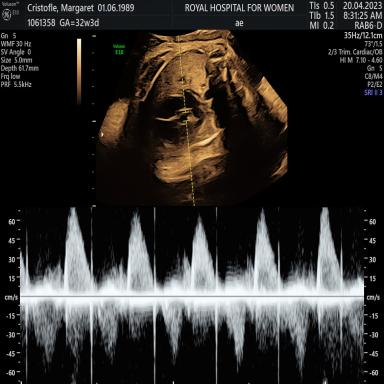Ultrasound-Waves: (27, 206, 361, 384)
